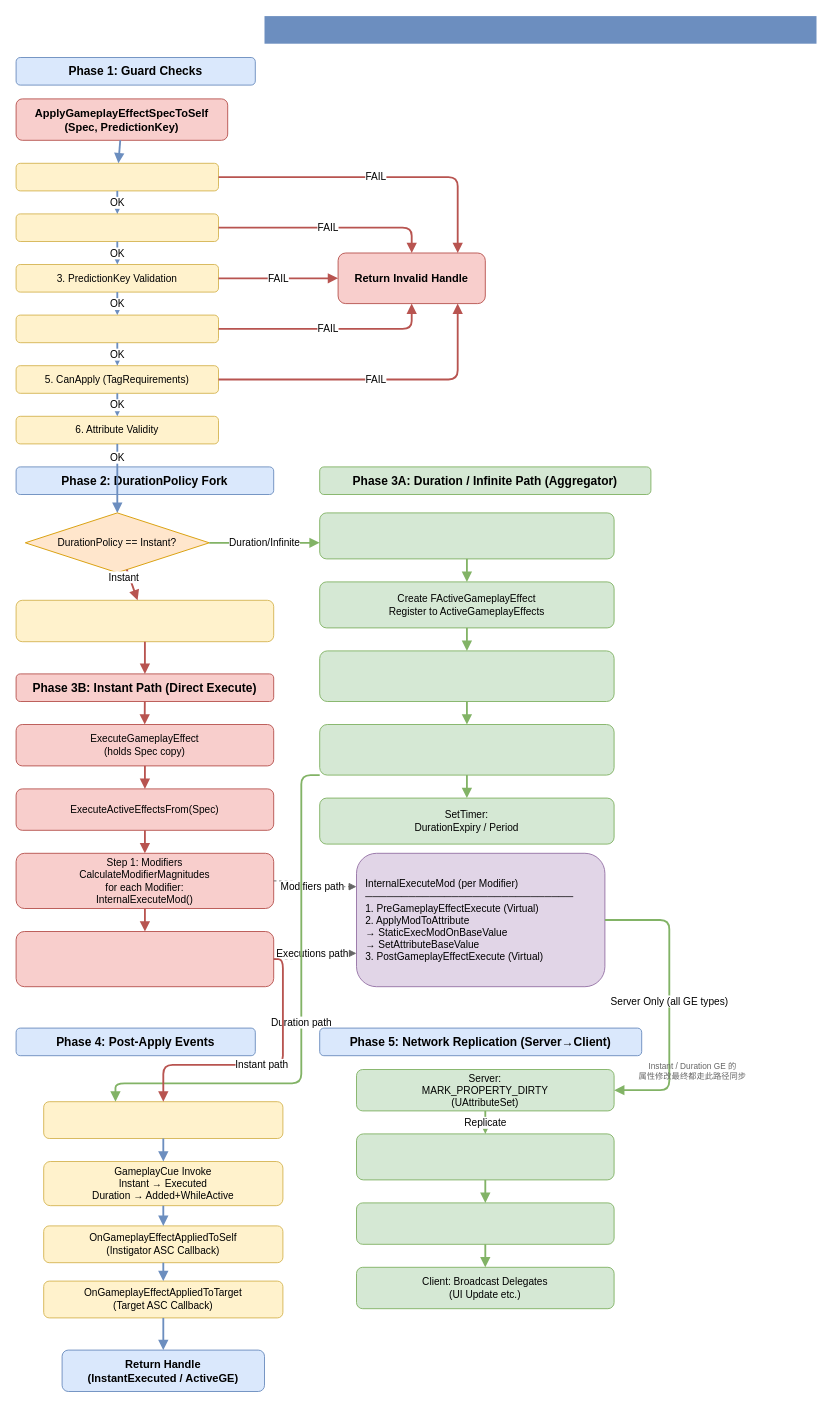
This 833x1408 diagram has some shape labels left out. The box of each missing label's shape, as (x1, y1, x2, y2) in pixels:
1. NullDef Check: (15, 162, 218, 191)
2. Network Authority: (15, 213, 218, 242)
4. Application Queries: (15, 314, 218, 343)
Aggregator::SetBaseValue Dirty → EvaluateWithBase InternalUpdateNumericalAttr: (319, 724, 614, 775)
ApplyGameplayEffectSpec FindStackableActiveGE(): (319, 512, 614, 559)
ApplyGameplayEffectSpecToSelf — Complete Call Chain: (264, 16, 816, 43)
CaptureAttributeDataFromTarget + GlobalPreGameplayEffectSpecApply: (15, 599, 274, 642)
Client: Aggregator Dirty InternalUpdateNumericalAttribute: (356, 1202, 614, 1244)
Client: OnRep SetBaseAttributeValue FromReplication: (356, 1133, 614, 1180)
OnApplied (GE Component System): (43, 1101, 283, 1138)
per-Modifier: Aggregator::FindOrCreate Aggregator::AddMod(): (319, 650, 614, 702)
Step 2: Executions for each ExecDef: ExecCDO.Execute() InternalExecuteMod(): (15, 931, 274, 987)
